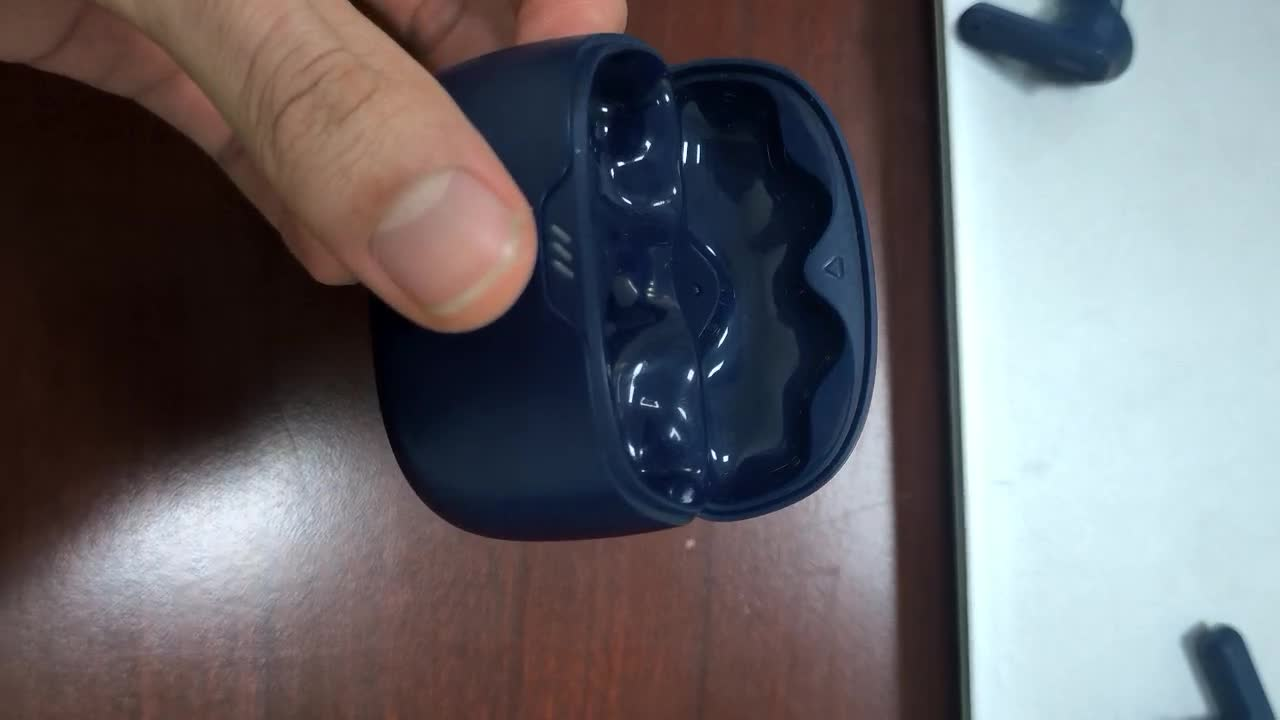Case: (354, 31, 875, 545)
Earbud: (958, 0, 1132, 81)
Empty_Slot: (570, 48, 734, 514)
